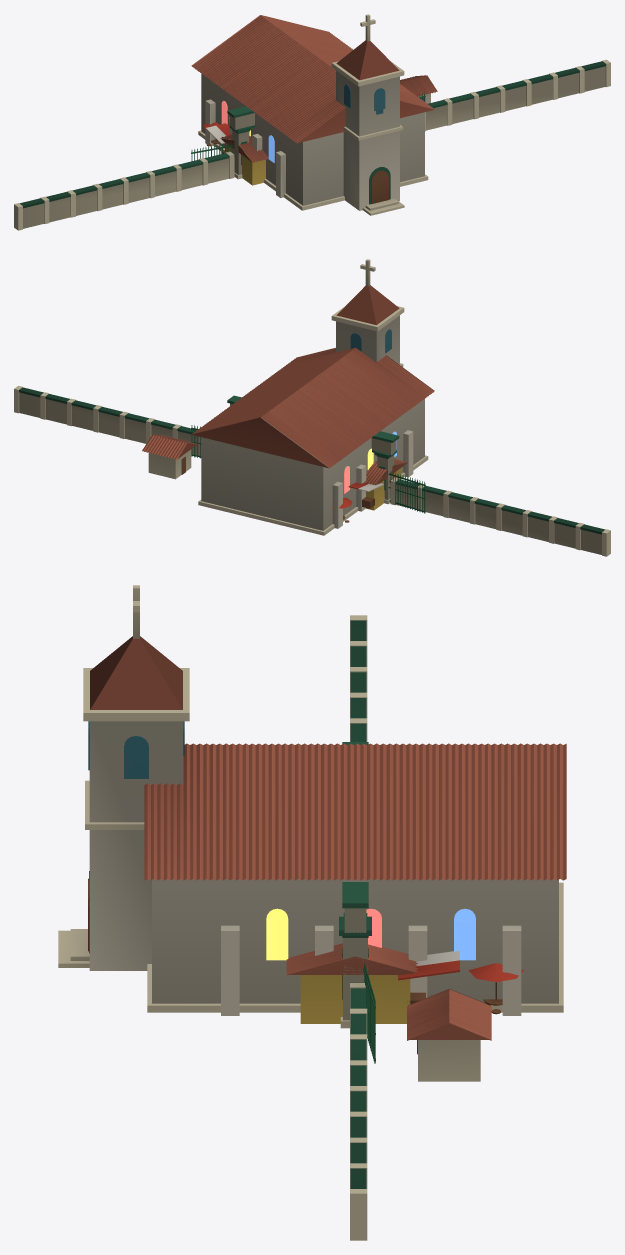
File: lasalle.glb
3 views of the same model, one above another, from view 1: azimuth 30°, elevation 25°; view 2: azimuth 150°, elevation 25°; view 3: azimuth 270°, elevation 25° (orthographic). The views are drawn at different scales.
Parts seen in each view (by area): view 1: ls-roof.001, ls-chapel, ls-cream.004, ls-trim.004, ls-cream.003, bar-yellow, ls-wood.002, ls-roof.002, ls-roof.004, ls-glass.002, ls-gate; view 2: ls-roof.001, ls-chapel, ls-cream.004, ls-trim.004, ls-cream.003, ls-gate, ls-roof.002, ls-roof.004; view 3: ls-roof.001, ls-chapel, ls-cream.004, ls-cream.003, ls-trim.004, bar-yellow, ls-roof.002, ls-roof.004, bar-red, ls-glass.002, ls-vitral-e8b83a, ls-vitral-3f6fd0.
Part boxes in pixels (left/top/right/bottom): ls-roof.001: left=191, top=15, right=434, bottom=143; ls-chapel: left=201, top=70, right=424, bottom=210; ls-cream.004: left=14, top=59, right=610, bottom=230; ls-trim.004: left=19, top=61, right=605, bottom=208; ls-cream.003: left=198, top=14, right=428, bottom=215; bar-yellow: left=225, top=143, right=265, bottom=185; ls-wood.002: left=371, top=170, right=388, bottom=204; ls-roof.002: left=400, top=75, right=437, bottom=96; ls-roof.004: left=220, top=135, right=268, bottom=162; ls-glass.002: left=344, top=84, right=385, bottom=114; ls-gate: left=191, top=92, right=425, bottom=160; ls-roof.001: left=192, top=285, right=434, bottom=468; ls-chapel: left=201, top=315, right=424, bottom=530; ls-cream.004: left=14, top=385, right=610, bottom=556; ls-trim.004: left=19, top=387, right=605, bottom=534; ls-cream.003: left=198, top=259, right=428, bottom=535; ls-gate: left=191, top=425, right=425, bottom=513; ls-roof.002: left=142, top=434, right=197, bottom=459; ls-roof.004: left=364, top=459, right=407, bottom=485; ls-roof.001: left=90, top=636, right=566, bottom=880; ls-chapel: left=89, top=721, right=558, bottom=1015; ls-cream.004: left=340, top=615, right=480, bottom=1240; ls-cream.003: left=58, top=585, right=563, bottom=1012; ls-trim.004: left=339, top=620, right=371, bottom=1188; bar-yellow: left=300, top=975, right=410, bottom=1023; ls-roof.002: left=407, top=989, right=491, bottom=1040; ls-roof.004: left=286, top=943, right=418, bottom=975; bar-red: left=398, top=960, right=523, bottom=982; ls-glass.002: left=88, top=721, right=184, bottom=778; ls-vitral-e8b83a: left=266, top=908, right=288, bottom=960; ls-vitral-3f6fd0: left=454, top=908, right=475, bottom=960.
Bounding box in the file's own units: 87.5 × 25.7 × 32.5.
